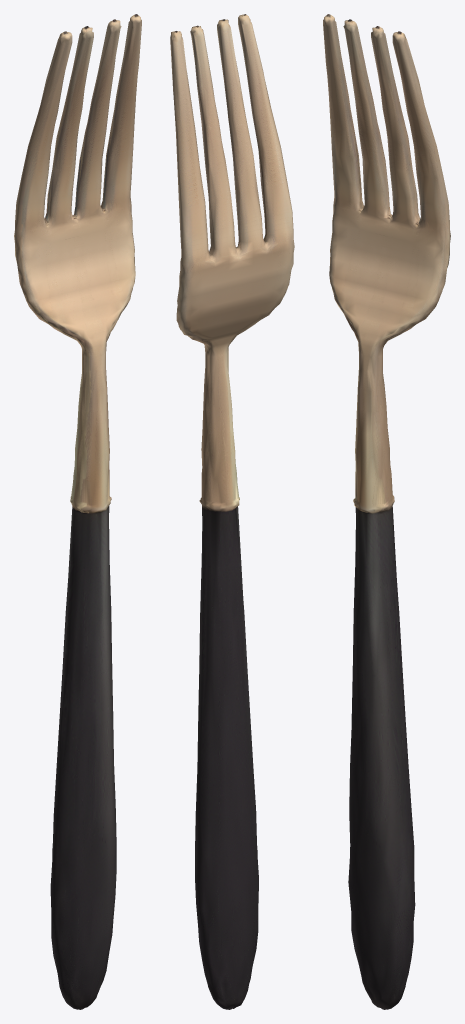
The model's file is Velo_Gold_and_Black_Dinner_fork_0225003156_texture.glb.
3 renders of one model, left to right at view 1: azimuth 30°, elevation 25°; view 2: azimuth 210°, elevation 25°; view 3: azimuth 330°, elevation 25°, orthographic. The views are drawn at different scales.
Parts seen in each view (by area): view 1: Mesh_0; view 2: Mesh_0; view 3: Mesh_0.
Boxes of the visible parts, x1,y1,x2,y2 form: Mesh_0: [14, 14, 141, 1009]; Mesh_0: [170, 14, 294, 1009]; Mesh_0: [323, 14, 450, 1009].
Bounding box in the file's own units: 0.0246 × 0.2032 × 0.0129.
1 material, 1 textured.
